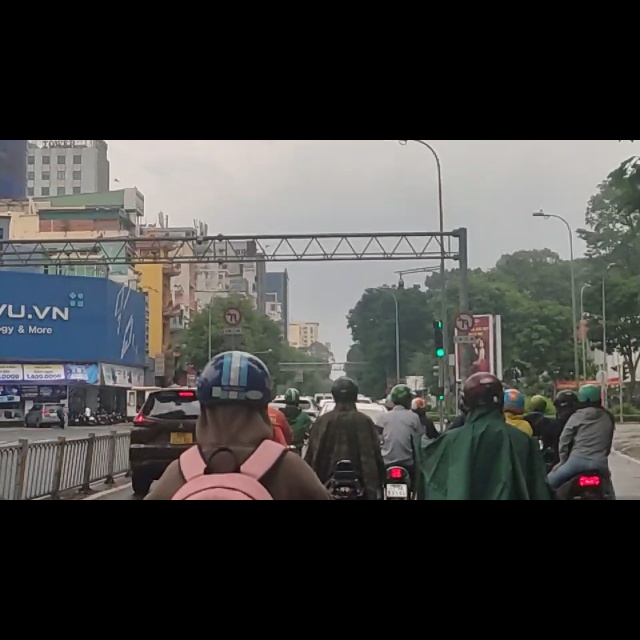bien_cam: (223, 295, 243, 331), (455, 306, 475, 340)
